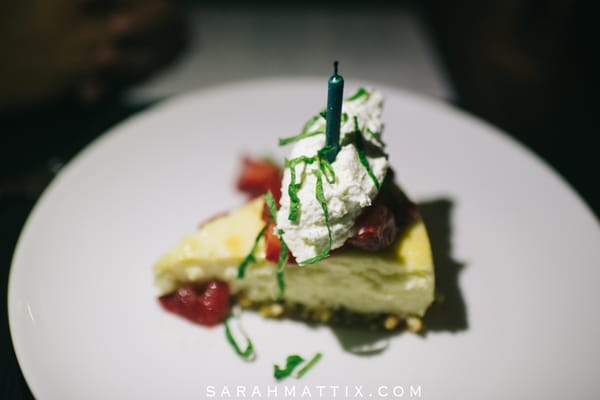soup: (151, 71, 437, 334)
